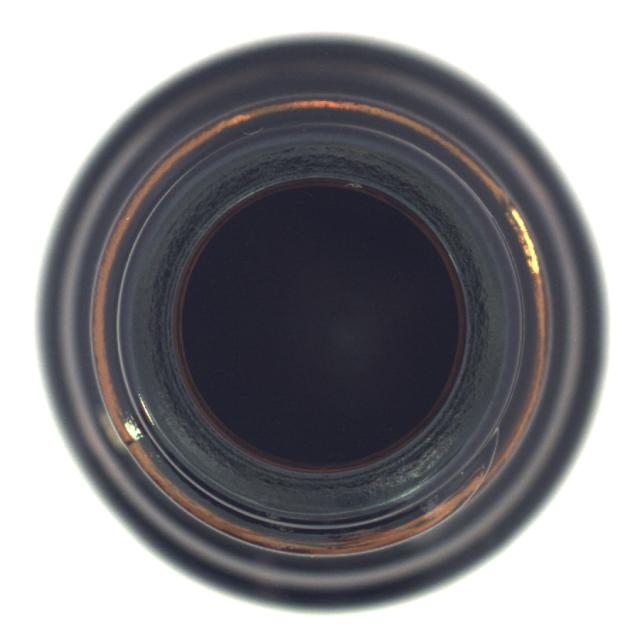bottle-good: (35, 33, 597, 611)
